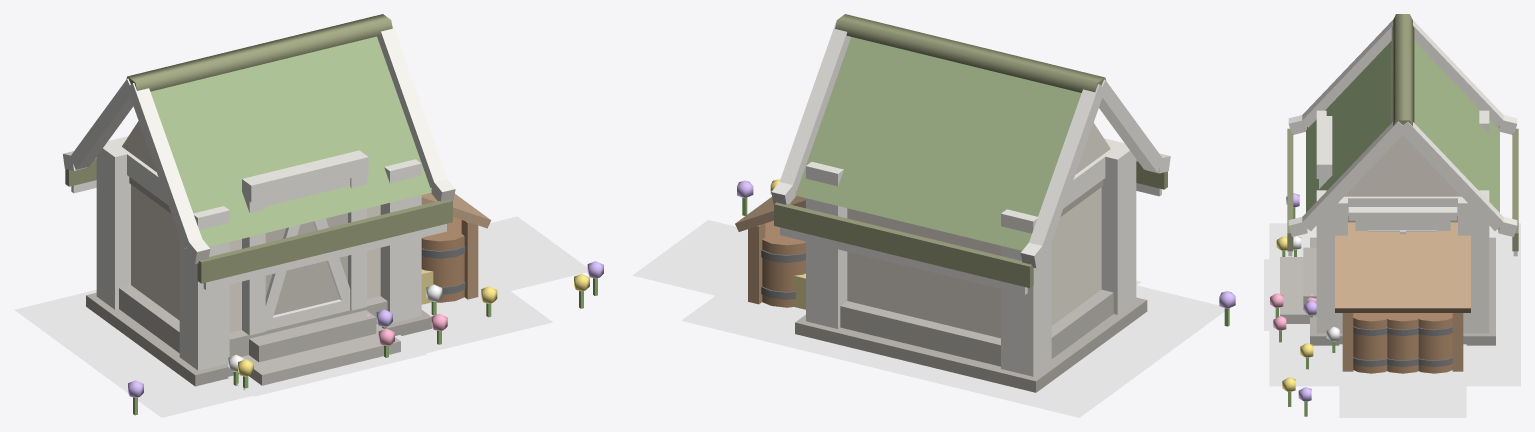
File: garden_shed_1.glb
3 renders of one model, left to right at view 1: azimuth 30°, elevation 25°; view 2: azimuth 150°, elevation 25°; view 3: azimuth 270°, elevation 25°, orthographic. The views are drawn at different scales.
Parts seen in each view (by area): view 1: body, garden_shed_1; view 2: body, garden_shed_1; view 3: body, garden_shed_1.
Boxes of the visible parts, x1=… form: body: x1=63, y1=14, x2=603, y2=415; garden_shed_1: x1=14, y1=216, x2=587, y2=417; body: x1=735, y1=14, x2=1235, y2=392; garden_shed_1: x1=632, y1=220, x2=1224, y2=417; body: x1=1270, y1=14, x2=1518, y2=416; garden_shed_1: x1=1264, y1=223, x2=1520, y2=417.
Size of the model in its own units: 1.5 by 0.8028 by 0.8.
